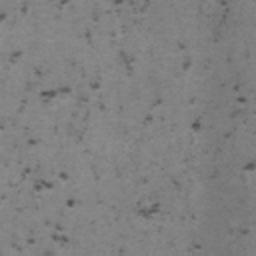Oxide scale of temperature system: (0, 0, 256, 172), (10, 137, 76, 256), (140, 201, 161, 219), (219, 0, 233, 13), (192, 242, 204, 251), (239, 228, 252, 236)
